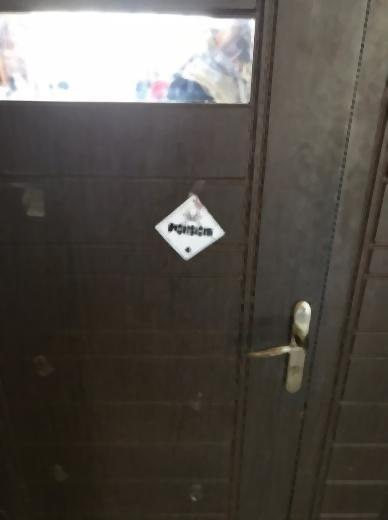poison: (152, 192, 227, 263)
